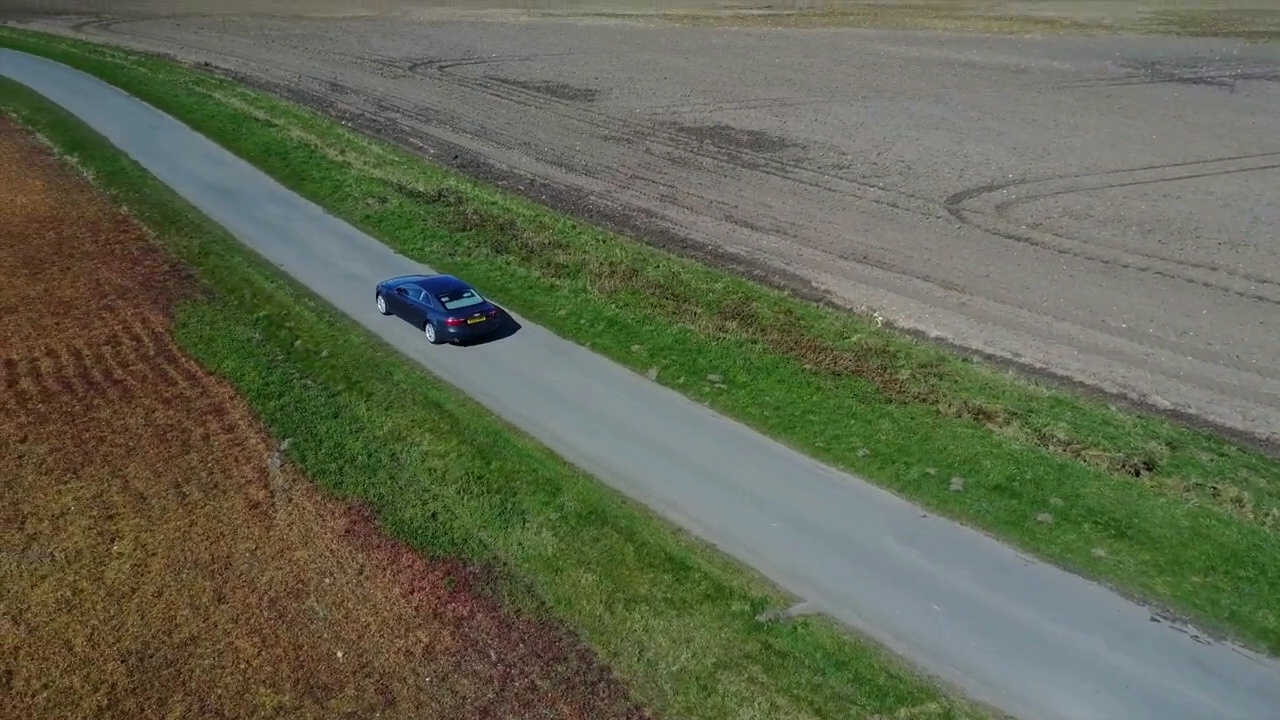araba: (371, 271, 501, 351)
